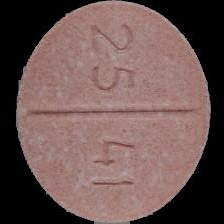10544-196: (0, 0, 224, 224)
